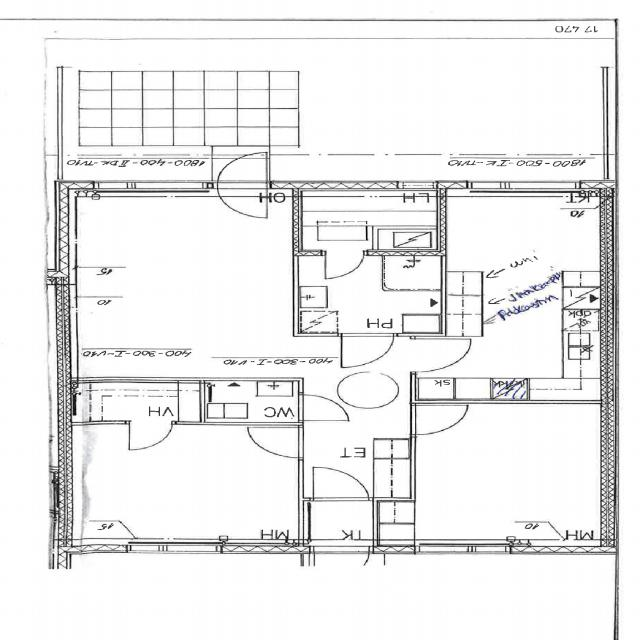door: (314, 546, 369, 587), (409, 339, 471, 372), (313, 465, 368, 501), (216, 180, 266, 218), (216, 151, 266, 188), (341, 333, 393, 367), (246, 427, 303, 458), (410, 405, 466, 435), (297, 394, 347, 420), (129, 422, 172, 450), (325, 251, 364, 279)
